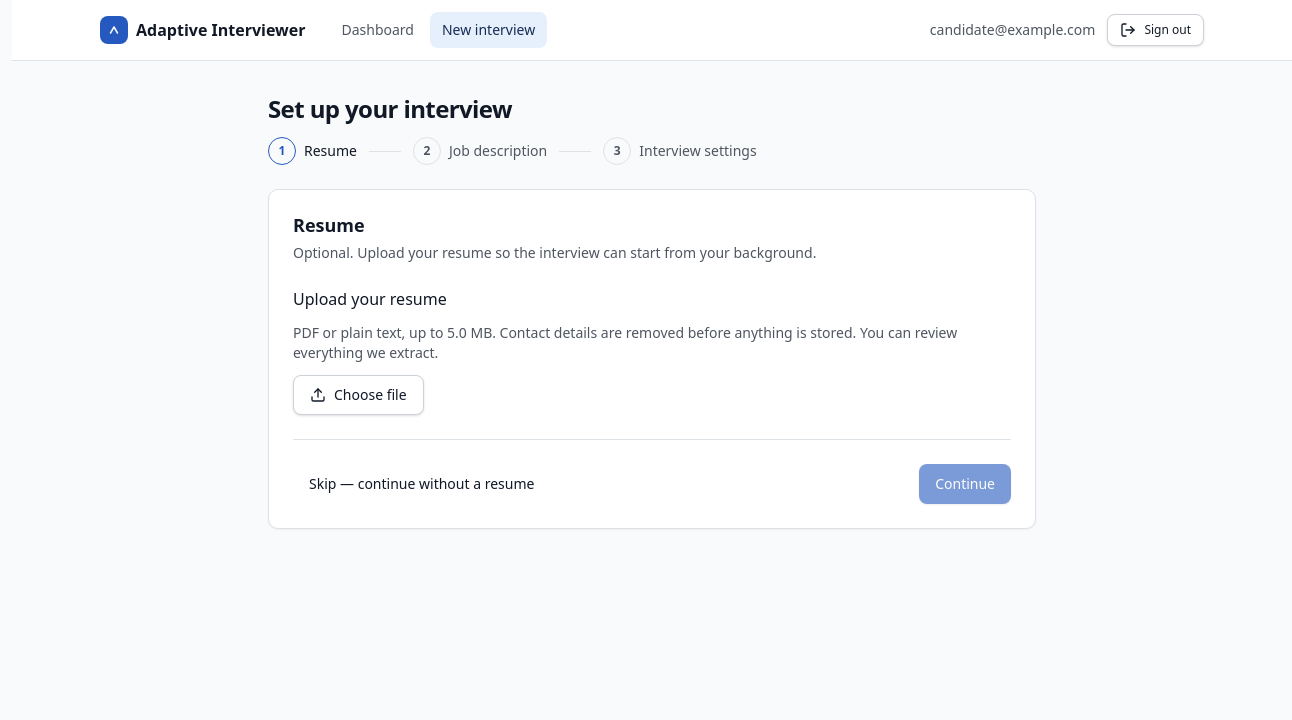
it: setup wizard — interview settings › offers only backend-supported options
Click the button "Skip — continue without a resume" at coordinates (422, 484), box x1=293 y1=464 x2=550 y2=504
(page scrolled)
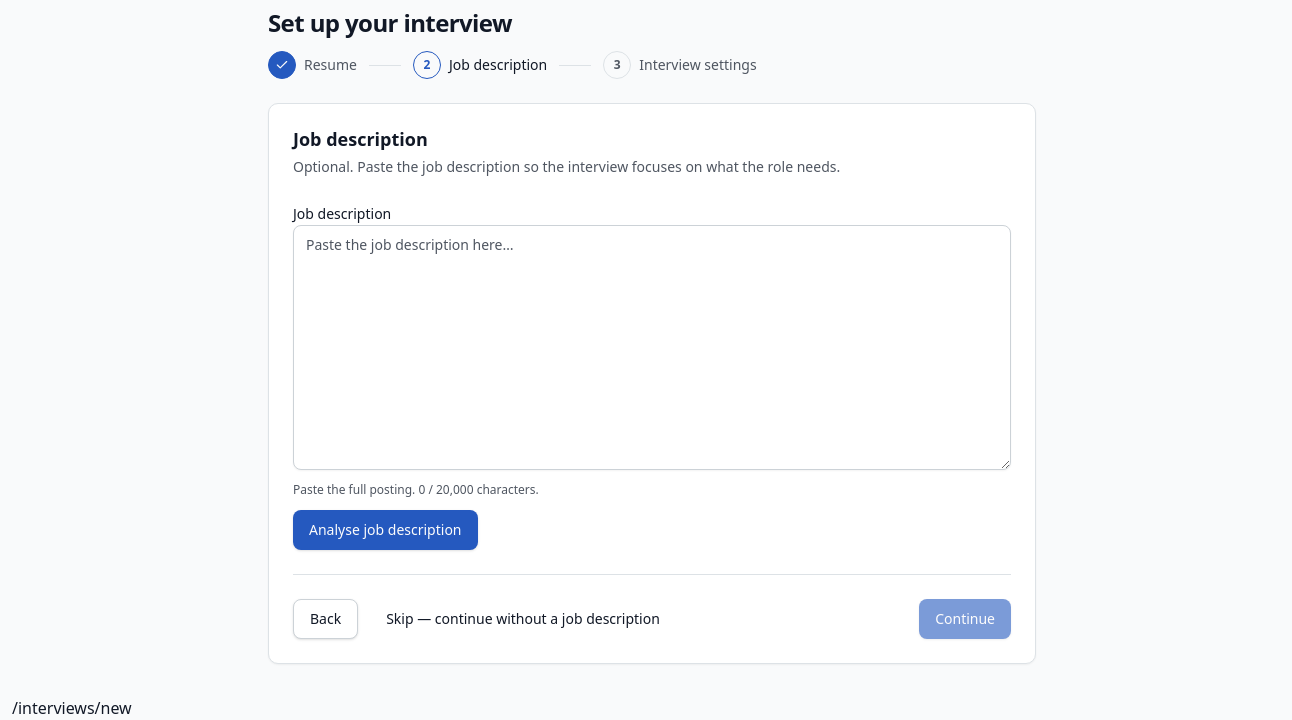
Click the button "Skip — continue without a job description" at coordinates (523, 619), box x1=370 y1=599 x2=676 y2=639
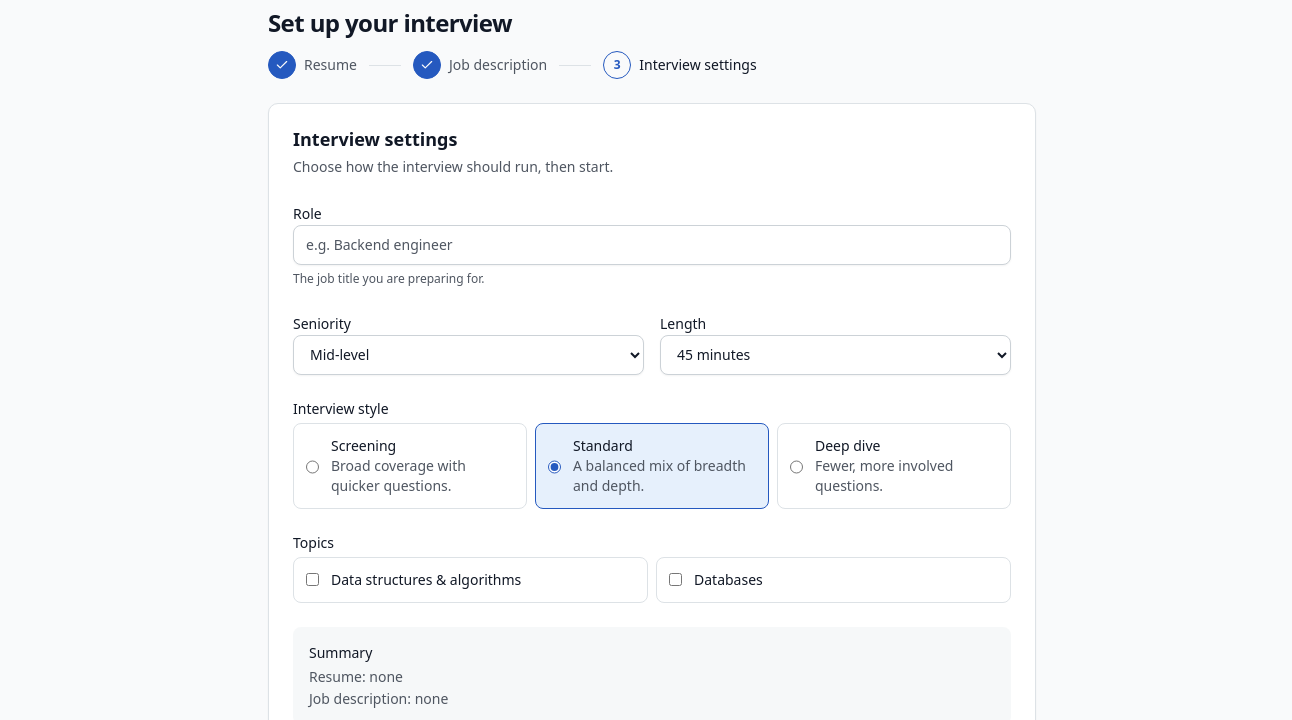
Now the field labelled "Role" is shown, box x1=293 y1=224 x2=1011 y2=264
Now the dropdown labelled "Seniority" shows "Mid-level", box x1=293 y1=334 x2=644 y2=374
Now the number of checkboxes is 2, box x1=306 y1=573 x2=319 y2=586; x1=669 y1=573 x2=682 y2=586
